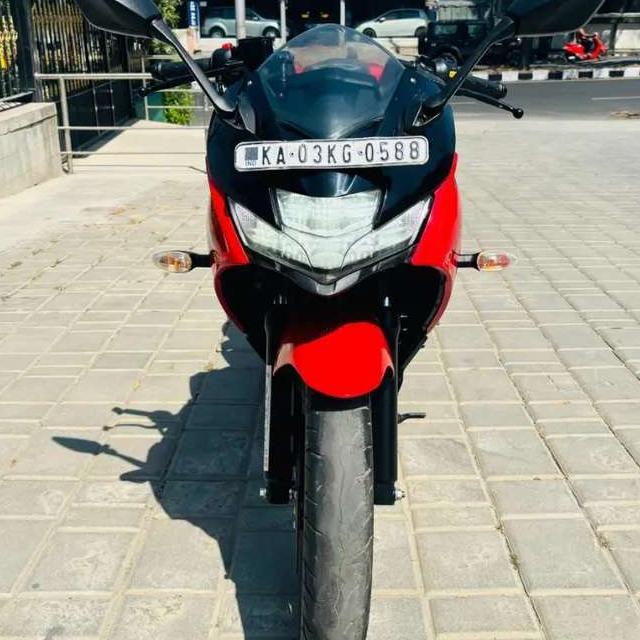Indian_Number_Plate: (238, 138, 429, 170)
